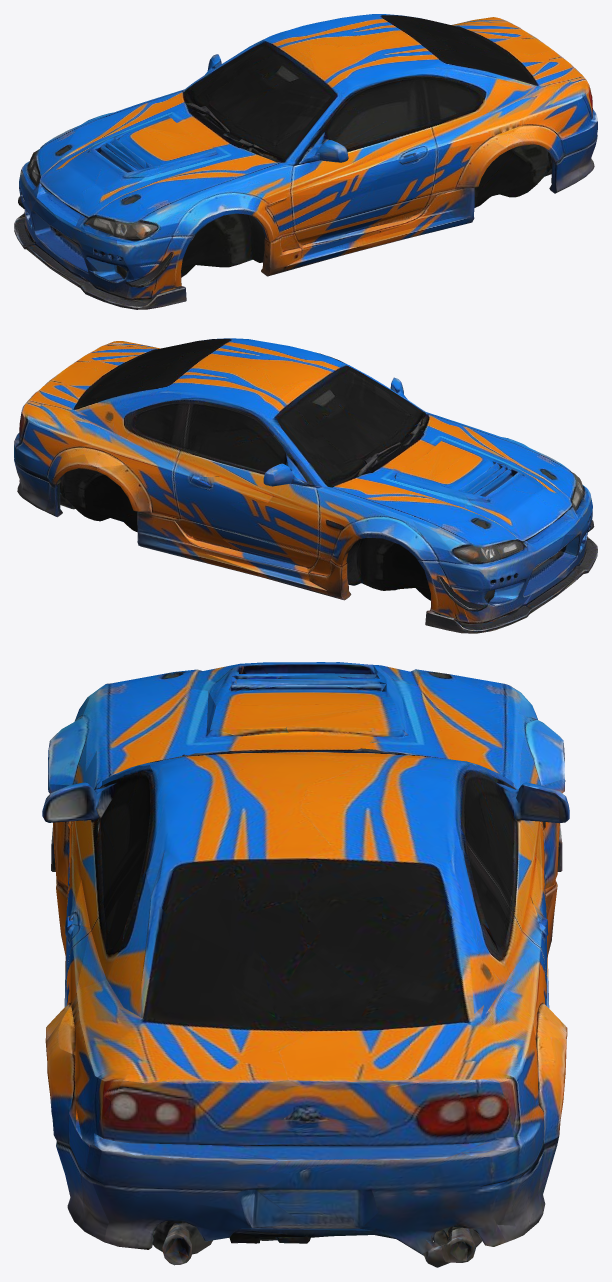
File: skin3.glb
The picture shows the model from 3 angles, top to bottom: view 1: azimuth 30°, elevation 25°; view 2: azimuth 150°, elevation 25°; view 3: azimuth 270°, elevation 25°; orthographic projection. The views are drawn at different scales.
Bounding box in the file's own units: 1.9 × 0.5485 × 0.8532.
1 material, 1 textured.
